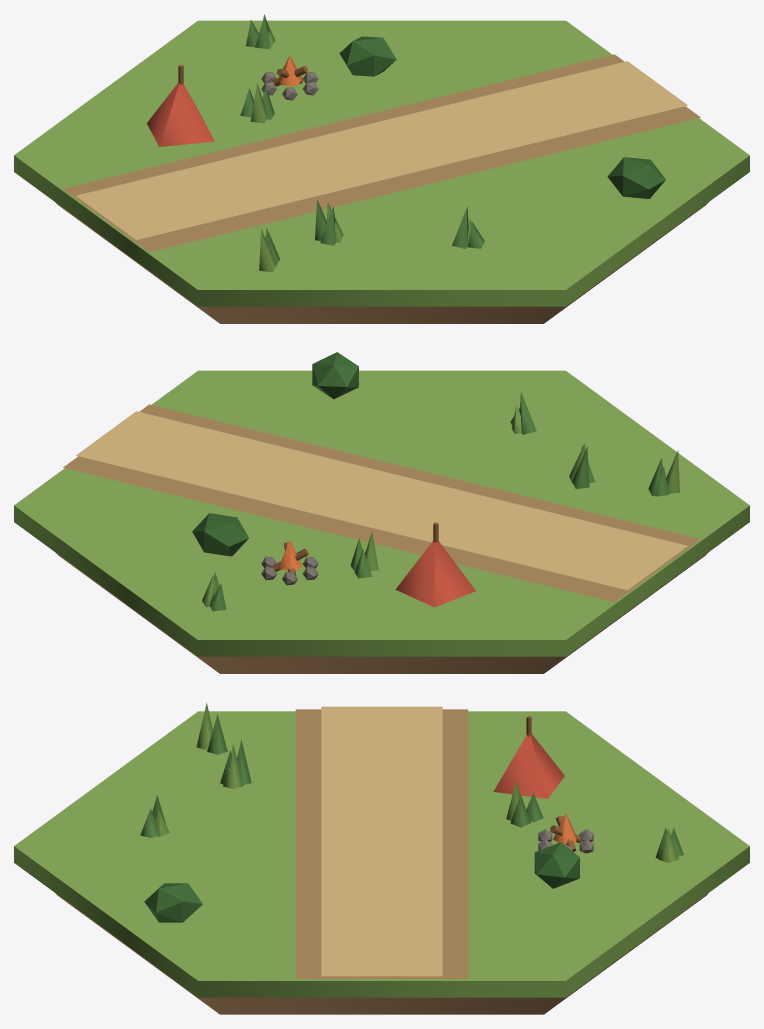
File: tile_rescue.glb
3 renders of one model, top to bottom at view 1: azimuth 30°, elevation 25°; view 2: azimuth 150°, elevation 25°; view 3: azimuth 270°, elevation 25°, orthographic.
Parts seen in each view (by area): view 1: turf, road, tile_base, bush (×2), tent; view 2: turf, road, tile_base, bush (×2), tent; view 3: turf, road, tile_base, bush (×2), tent.
Part boxes in pixels (x1=…): turf: x1=14, y1=20, x2=749, y2=306; road: x1=63, y1=54, x2=700, y2=252; tile_base: x1=55, y1=202, x2=708, y2=323; bush (×2): x1=339, y1=36, x2=665, y2=198; tent: x1=147, y1=83, x2=214, y2=146; turf: x1=14, y1=370, x2=749, y2=656; road: x1=63, y1=404, x2=700, y2=602; tile_base: x1=55, y1=552, x2=708, y2=673; bush (×2): x1=192, y1=352, x2=358, y2=556; tent: x1=395, y1=541, x2=475, y2=607; turf: x1=14, y1=711, x2=749, y2=997; road: x1=295, y1=706, x2=468, y2=978; tile_base: x1=55, y1=893, x2=708, y2=1014; bush (×2): x1=144, y1=842, x2=579, y2=922; tent: x1=493, y1=734, x2=564, y2=798.
Bounding box in the file's own units: 1.73 × 0.35 × 2.
